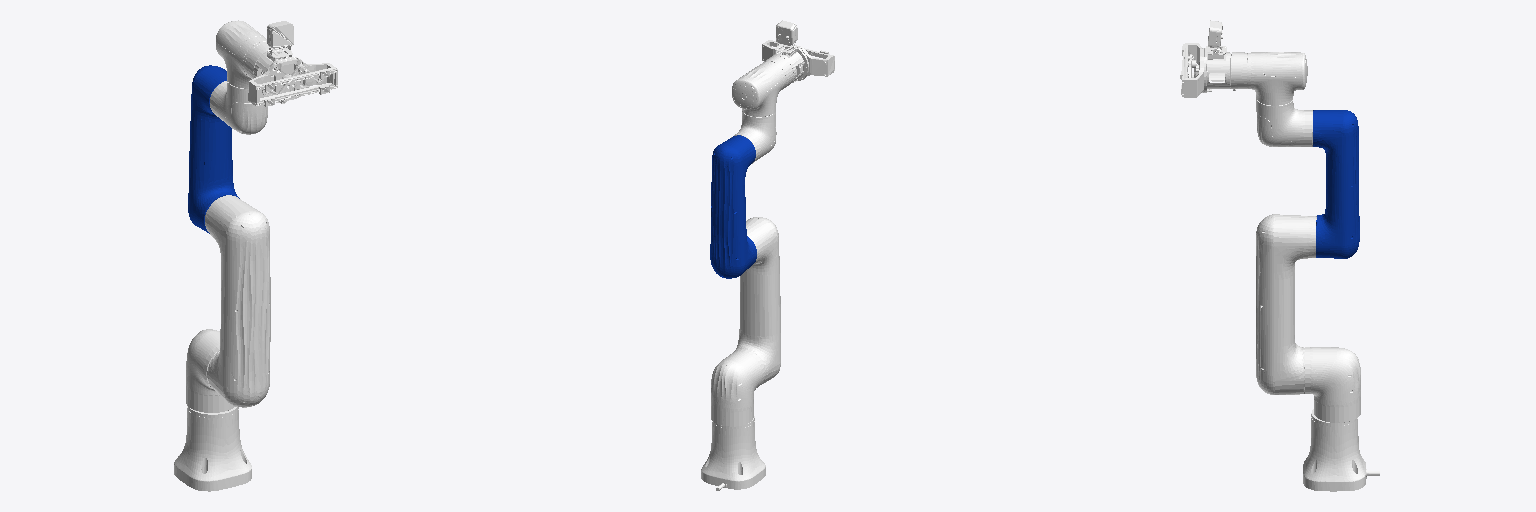
URDF robot description (xtrainer_arm):
<?xml version="1.0" encoding="utf-8"?>
<robot name="xtrainer_arm" urdf_version="xtrainer1-20260402">
  <link name="LINK_0">
    <visual>
      <origin xyz="0 0 0" rpy="0 0 0" />
      <geometry>
        <mesh filename="package://robotics/drivers/dobot/description/meshes/xtrainer/base_link.STL" />
      </geometry>
      <material name="">
        <color rgba="1 1 1 1" />
      </material>
    </visual>
    <collision>
      <origin xyz="0 0 0" rpy="0 0 0" />
      <geometry>
      <mesh filename="package://robotics/drivers/dobot/description/meshes/xtrainer/base_link.STL" />
      </geometry>
    </collision>
  </link>
  <link name="LINK_1">
    <inertial>
      <origin xyz="-5.65197192524001E-07 -0.0218721820210573 -0.0236240052195699" rpy="0 0 0" />
      <mass value="0.803373181367942" />
      <inertia ixx="0.00167953489998163" ixy="1.52076248134064E-07" ixz="6.71055132499376E-08" iyy="0.00146966202512486" iyz="0.000442023628303465" izz="0.00103706887056794" />
    </inertial>
    <visual>
      <origin xyz="0 0 0" rpy="0 0 0" />
      <geometry>
        <mesh filename="package://robotics/drivers/dobot/description/meshes/xtrainer/J1.STL" />
      </geometry>
      <material name="">
        <color rgba="1 1 1 1" />
      </material>
    </visual>
    <collision>
      <origin xyz="0 0 0" rpy="0 0 0" />
      <geometry>
        <mesh filename="package://robotics/drivers/dobot/description/meshes/xtrainer/J1.STL" />
      </geometry>
    </collision>
  </link>
  <joint name="J_1" type="revolute">
    <origin xyz="0.00063 0.00521 0.22387" rpy="0.00211  0.00457999 -0.02148" />
    <parent link="LINK_0" />
    <child link="LINK_1" />
    <axis xyz="0 0 1" />
    <limit lower="-3.14" upper="3.14" effort="100" velocity="100" />
  </joint>
  <link name="LINK_2">
    <inertial>
      <origin xyz="-0.150315452581084 7.53445130409325E-06 0.0931425829318985" rpy="0 0 0" />
      <mass value="1.57800314144516" />
      <inertia ixx="0.00156669413728986" ixy="-4.08225129063918E-07" ixz="-0.00115245047452325" iyy="0.0216390570049862" iyz="-5.62853915685086E-08" izz="0.0217356952133359" />
    </inertial>
    <visual>
      <origin xyz="0 0 0" rpy="0 0 0" />
      <geometry>
        <mesh filename="package://robotics/drivers/dobot/description/meshes/xtrainer/J2.STL" />
      </geometry>
      <material name="">
        <color rgba="1 1 1 1" />
      </material>
    </visual>
    <collision>
      <origin xyz="0 0 0" rpy="0 0 0" />
      <geometry>
        <mesh filename="package://robotics/drivers/dobot/description/meshes/xtrainer/J2.STL" />
      </geometry>
    </collision>
  </link>
  <joint name="J_2" type="revolute">
    <origin xyz="0.00081 -0.00011 -0.00045" rpy="1.87151 1.57503 0.30442" />
    <parent link="LINK_1" />
    <child link="LINK_2" />
    <axis xyz="0 0 1" />
    <limit lower="-1.92" upper="1.92" effort="100" velocity="100" />
  </joint>
  <link name="LINK_3">
    <inertial>
      <origin xyz="-0.11829530265617 3.4913911960105E-06 0.0113001918322732" rpy="0 0 0" />
      <mass value="0.998646227349197" />
      <inertia ixx="0.00077569311375886" ixy="8.54864098812045E-08" ixz="0.000543541403365136" iyy="0.00938193659872665" iyz="6.41884238351191E-08" izz="0.0094010547632182" />
    </inertial>
    <visual>
      <origin xyz="0 0 0" rpy="0 0 0" />
      <geometry>
        <mesh filename="package://robotics/drivers/dobot/description/meshes/xtrainer/J3.STL" />
      </geometry>
      <material name="">
        <color rgba="0.0862745098039216 0.294117647058824 0.749019607843137 1" />
      </material>
    </visual>
    <collision>
      <origin xyz="0 0 0" rpy="0 0 0" />
      <geometry>
        <mesh filename="package://robotics/drivers/dobot/description/meshes/xtrainer/J3.STL" />
      </geometry>
    </collision>
  </link>
  <joint name="J_3" type="revolute">
    <origin xyz="-0.28093 -0.00077 9e-05" rpy="0.00023 -0.00104 0.00246" />
    <parent link="LINK_2" />
    <child link="LINK_3" />
    <axis xyz="0 0 1" />
    <limit lower="-2.53" upper="2.53" effort="100" velocity="100" />
  </joint>
  <link name="LINK_4">
    <inertial>
      <origin xyz="-6.75890392088209E-06 -0.022667420396611 -0.0204630900415074" rpy="0 0 0" />
      <mass value="0.441609477894635" />
      <inertia ixx="0.000641185874043712" ixy="1.35467068924267E-08" ixz="2.62706359334601E-08" iyy="0.000455379178453104" iyz="0.000213286179389194" izz="0.000482725147812643" />
    </inertial>
    <visual>
      <origin xyz="0 0 0" rpy="0 0 0" />
      <geometry>
        <mesh filename="package://robotics/drivers/dobot/description/meshes/xtrainer/J4.STL" />
      </geometry>
      <material name="">
        <color rgba="1 1 1 1" />
      </material>
    </visual>
    <collision>
      <origin xyz="0 0 0" rpy="0 0 0" />
      <geometry>
        <mesh filename="package://robotics/drivers/dobot/description/meshes/xtrainer/J4.STL" />
      </geometry>
    </collision>
  </link>
  <joint name="J_4" type="revolute">
    <origin xyz="-0.22515 0.00068 0.11757" rpy="-0.00067 0.00033 -1.57529" />
    <parent link="LINK_3" />
    <child link="LINK_4" />
    <axis xyz="0 0 1" />
    <limit lower="-2.46" upper="2.46" effort="100" velocity="100" />
  </joint>
  <link name="LINK_5">
    <inertial>
      <origin xyz="-1.99535969620709E-06 0.00155681600061644 -0.0074870419101597" rpy="0 0 0" />
      <mass value="0.583814996907031" />
      <inertia ixx="0.000666644039600493" ixy="1.15592811229631E-08" ixz="1.38509613362661E-08" iyy="0.000404278555269793" iyz="-0.000120256143942442" izz="0.000644532573491125" />
    </inertial>
    <visual>
      <origin xyz="0 0 0" rpy="0 0 0" />
      <geometry>
        <mesh filename="package://robotics/drivers/dobot/description/meshes/xtrainer/J5.STL" />
      </geometry>
      <material name="">
        <color rgba="1 1 1 1" />
      </material>
    </visual>
    <collision>
      <origin xyz="0 0 0" rpy="0 0 0" />
      <geometry>
        <mesh filename="package://robotics/drivers/dobot/description/meshes/xtrainer/J5.STL" />
      </geometry>
    </collision>
  </link>
  <joint name="J_5" type="revolute">
    <origin xyz="0.00035 -0.1202 6e-05" rpy="1.57052 -0.00025 0.00278"/>
    <parent link="LINK_4" />
    <child link="LINK_5" />
    <axis xyz="0 0 1" />
    <limit lower="-2.51" upper="2.51" effort="100" velocity="100" />
  </joint>
  <link name="LINK_6">
    <inertial>
      <origin xyz="0.000352958226586775 -0.00670103021677548 0.0489811978556805" rpy="0 0 0" />
      <mass value="0.44989502189887" />
      <inertia ixx="0.000187336577585391" ixy="-7.14692383579506E-07" ixz="-2.07418530987097E-07" iyy="0.000351222028390666" iyz="1.09119051840542E-06" izz="0.000384368948985168" />
    </inertial>
    <visual>
      <origin xyz="0 0 0" rpy="0 0 0" />
      <geometry>
        <mesh filename="package://robotics/drivers/dobot/description/meshes/xtrainer/J6.STL" />
      </geometry>
      <material name="">
        <color rgba="1 1 1 1" />
      </material>
    </visual>
    <collision>
      <origin xyz="0 0 0" rpy="0 0 0" />
      <geometry>
        <mesh filename="package://robotics/drivers/dobot/description/meshes/xtrainer/J6.STL" />
      </geometry>
    </collision>
  </link>
  <joint name="J_6" type="revolute">
    <origin xyz="-0.00001279  0.08303008 -0.00000831" rpy="-1.57119385  0.000209674201 -0.000826419364" />
    <parent link="LINK_5" />
    <child link="LINK_6" />
    <axis xyz="0 0 1" />
    <limit lower="-3.14" upper="3.14" effort="100" velocity="100" />
  </joint>
  <link name="gripper_link"/>
  <joint name="gripper_joint" type="fixed">
    <origin xyz="0 0 0.19" rpy="0 0 0" />
    <parent link="LINK_6" />
    <child link="gripper_link" />
  </joint>
</robot>

--- Render facts (derived) ---
Views: 3 orthographic renders of the robot side by side, from view 1: azimuth 30°, elevation 25°; view 2: azimuth 150°, elevation 25°; view 3: azimuth 270°, elevation 25°.
Robot: xtrainer_arm — 8 links, 7 joints (6 revolute, 1 fixed); root link LINK_0; default pose: every joint at zero.
Visible links, largest first — view 1: LINK_2, LINK_3, LINK_0, LINK_6, LINK_1, LINK_4, LINK_5; view 2: LINK_2, LINK_3, LINK_0, LINK_1, LINK_6, LINK_5, LINK_4; view 3: LINK_2, LINK_3, LINK_0, LINK_1, LINK_6, LINK_5, LINK_4.
Link boxes in pixels (left/top/right/bottom): LINK_2: left=205, top=195, right=270, bottom=407; LINK_3: left=188, top=65, right=239, bottom=233; LINK_0: left=174, top=406, right=251, bottom=491; LINK_6: left=245, top=21, right=337, bottom=106; LINK_1: left=186, top=329, right=235, bottom=412; LINK_4: left=210, top=80, right=267, bottom=134; LINK_5: left=216, top=20, right=266, bottom=88; LINK_2: left=734, top=217, right=780, bottom=383; LINK_3: left=710, top=135, right=756, bottom=278; LINK_0: left=701, top=416, right=765, bottom=490; LINK_1: left=711, top=349, right=764, bottom=426; LINK_6: left=762, top=20, right=834, bottom=89; LINK_5: left=732, top=61, right=785, bottom=116; LINK_4: left=731, top=111, right=776, bottom=163; LINK_2: left=1256, top=214, right=1316, bottom=394; LINK_3: left=1313, top=110, right=1359, bottom=258; LINK_0: left=1303, top=409, right=1379, bottom=491; LINK_1: left=1304, top=347, right=1360, bottom=422; LINK_6: left=1180, top=20, right=1247, bottom=97; LINK_5: left=1247, top=52, right=1307, bottom=105; LINK_4: left=1256, top=99, right=1312, bottom=146.
Size in the robot's own frame: 0.1606 by 0.3757 by 0.9472 metres.
7 mesh visuals loaded from 7 distinct referenced files (7 binary STL).
